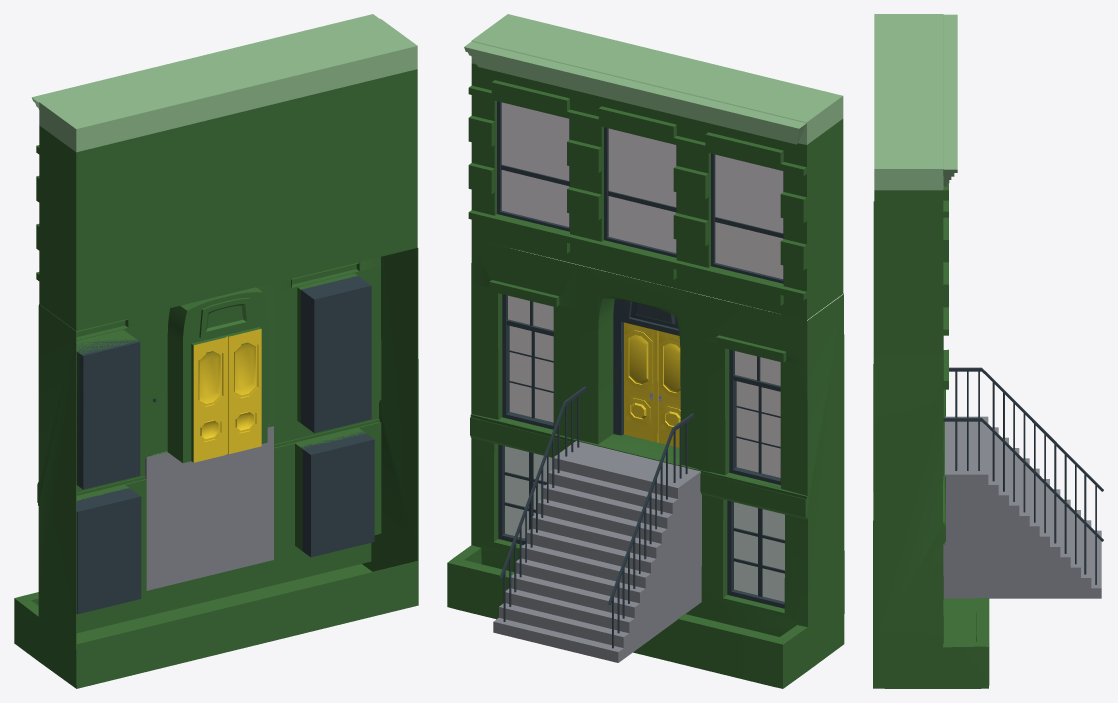
3 views of the same model, side by side, from view 1: azimuth 30°, elevation 25°; view 2: azimuth 150°, elevation 25°; view 3: azimuth 270°, elevation 25° (orthographic). The views are drawn at different scales.
Parts seen in each view (by area): view 1: HDM002; view 2: HDM002; view 3: HDM002.
Boxes of the visible parts, x1=… form: HDM002: x1=14, y1=14, x2=418, y2=688; HDM002: x1=447, y1=14, x2=844, y2=688; HDM002: x1=873, y1=14, x2=1103, y2=688.
Bounding box in the file's own units: 316 × 493 × 198.
